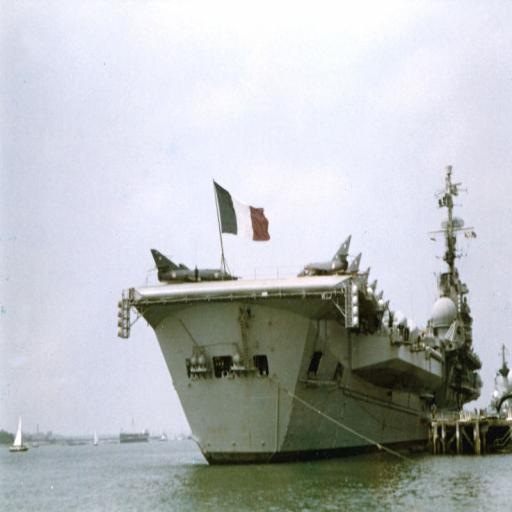Portanaves: (125, 146, 487, 470)
